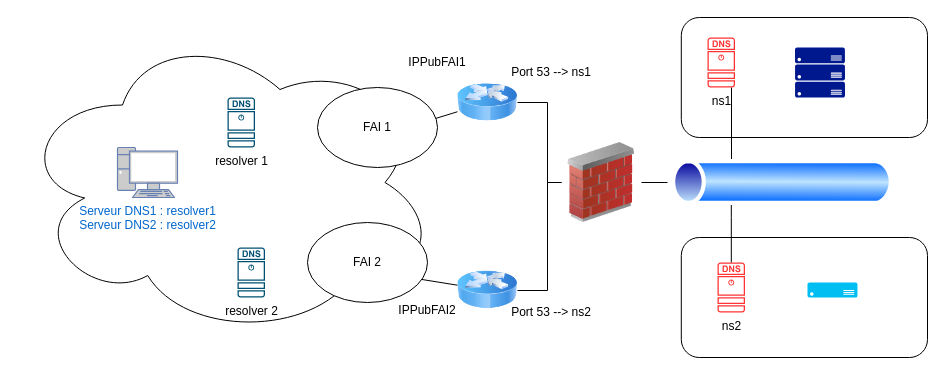
This 945x375 diagram has some shape labels left out. Here are the shapes that lost their labels. From the top down, the centre of each, then its label:
At (x=819, y=72): "Nutanix Infrastructure".
At (x=782, y=182): "DMZ".
At (x=832, y=289): "Proxmox Server Baie Etudiants".
